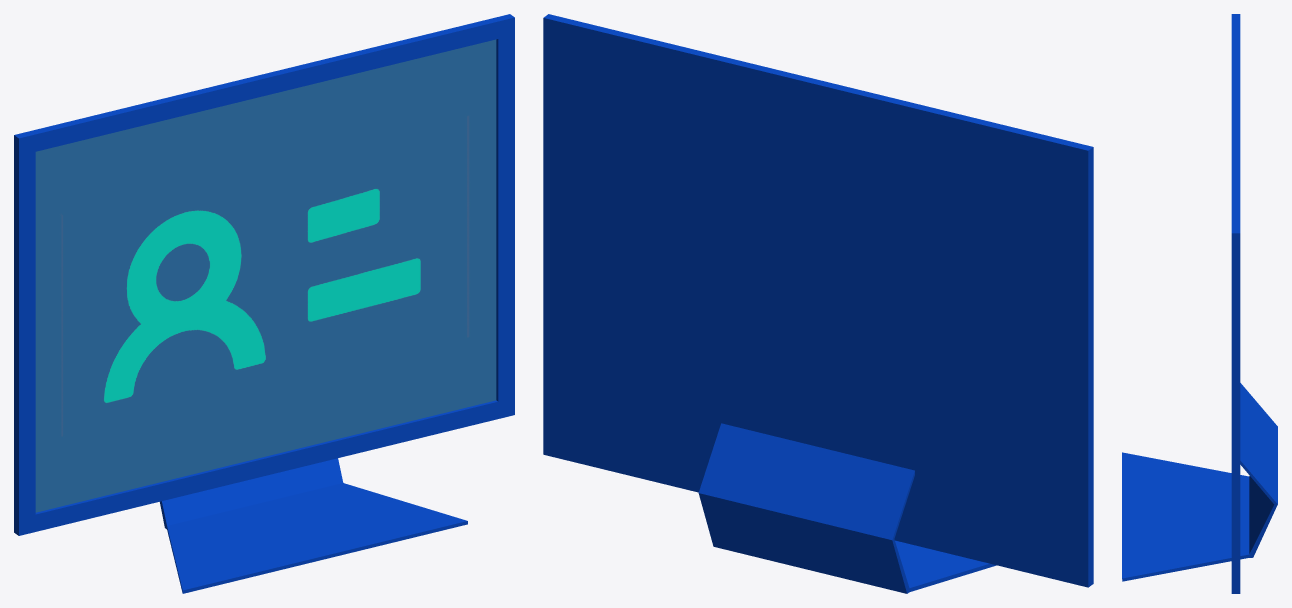
File: web.FBX
3 renders of one model, left to right at view 1: azimuth 30°, elevation 25°; view 2: azimuth 150°, elevation 25°; view 3: azimuth 270°, elevation 25°, orthographic. The views are drawn at different scales.
Visible parts, largest first — view 1: 对象392, 工程师站; view 2: 工程师站; view 3: 工程师站.
Boxes of the visible parts, x1,y1,x2,y2 form: 对象392: (35, 39, 496, 512); 工程师站: (14, 14, 514, 593); 工程师站: (543, 14, 1093, 593); 工程师站: (1122, 14, 1277, 593).
Size of the model in its own units: 790 by 665 by 237.
Materials: 2 (1 with a texture image).
